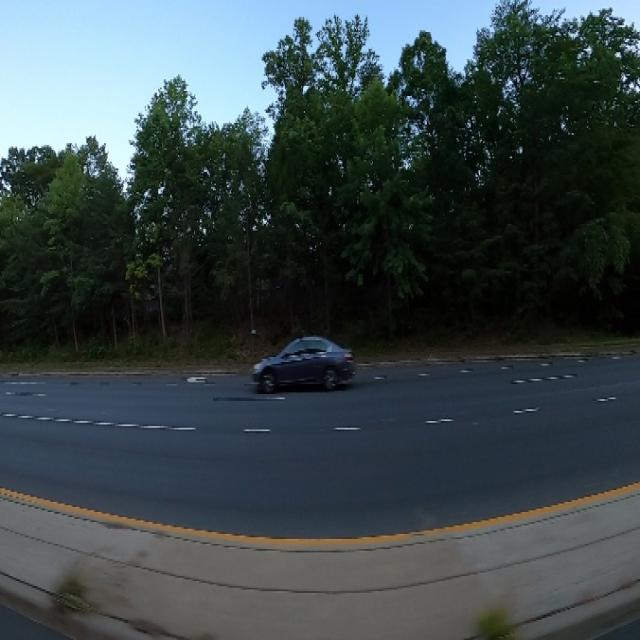car: (246, 330, 358, 398)
